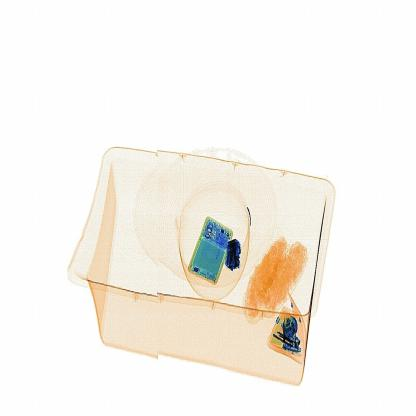scissors: (219, 233, 252, 284)
